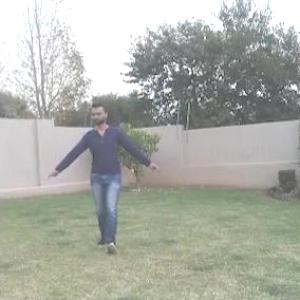land: (36, 91, 169, 266)
